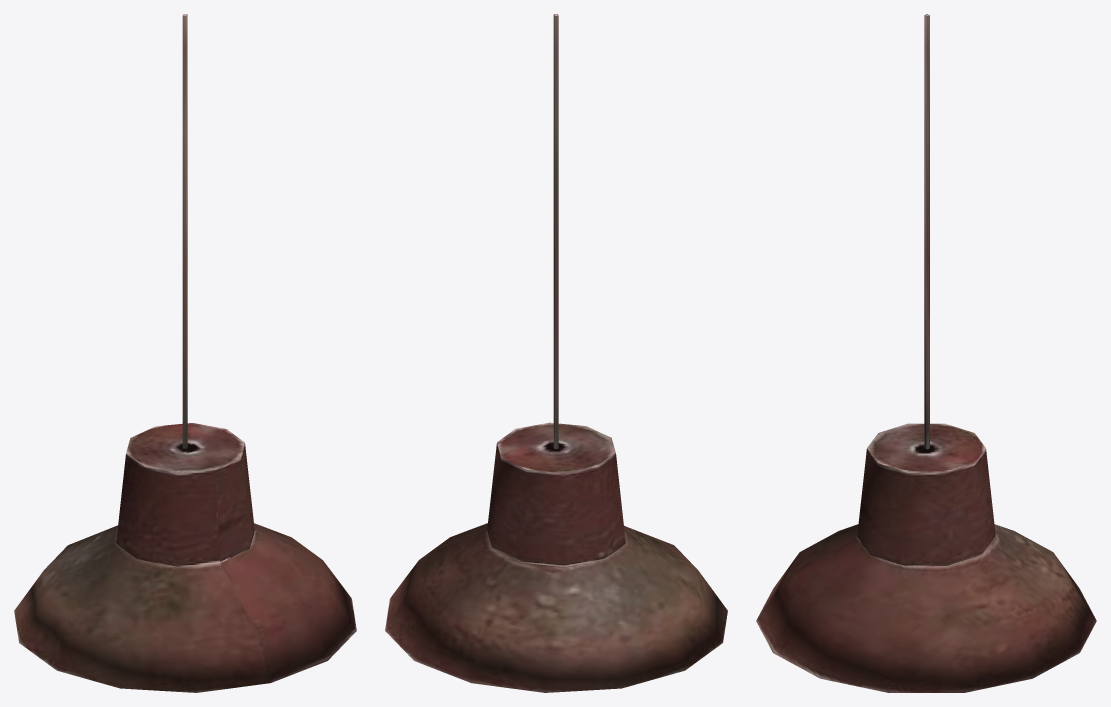
File: tiem-den-treo.glb
The picture shows the model from 3 angles, left to right: view 1: azimuth 30°, elevation 25°; view 2: azimuth 150°, elevation 25°; view 3: azimuth 270°, elevation 25°; orthographic projection.
Visible parts, largest first — view 1: tiem-den-treo; view 2: tiem-den-treo; view 3: tiem-den-treo.
Part boxes in pixels (<box>): tiem-den-treo: <box>14,14,356,692</box>; tiem-den-treo: <box>385,14,727,692</box>; tiem-den-treo: <box>756,14,1096,692</box>.
Size of the model in its own units: 1.57 by 3.07 by 1.57.
1 material, 1 textured.
